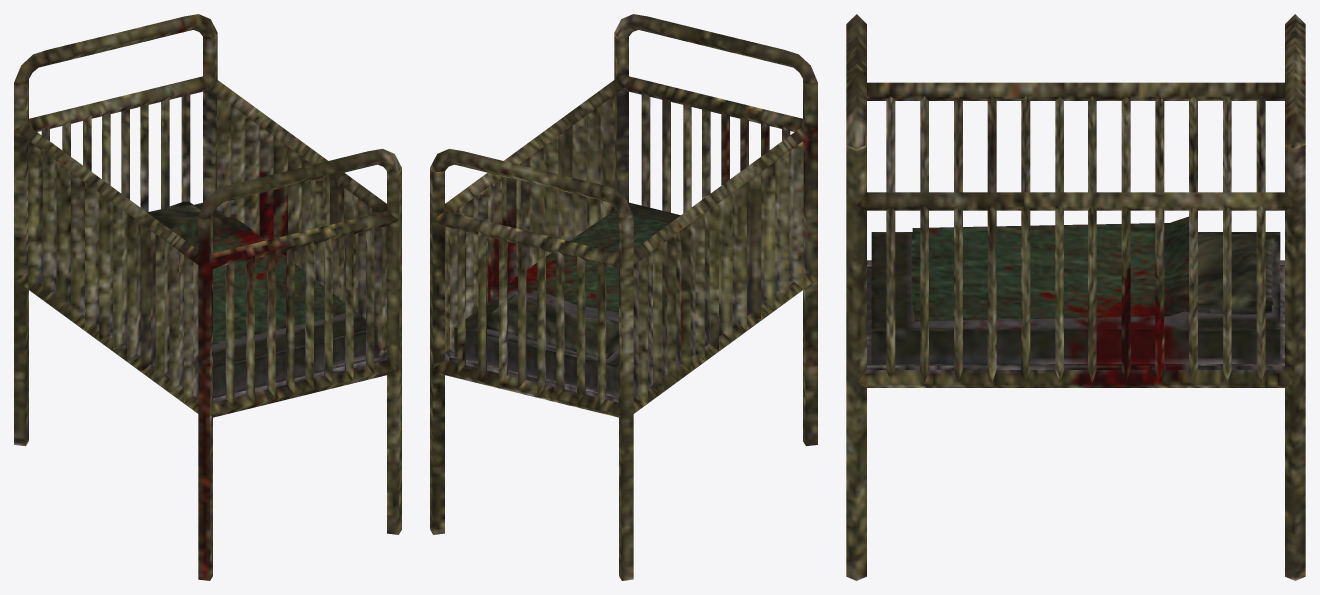
3 renders of one model, left to right at view 1: azimuth 30°, elevation 25°; view 2: azimuth 150°, elevation 25°; view 3: azimuth 270°, elevation 25°, orthographic. The views are drawn at different scales.
Parts seen in each view (by area): view 1: Cage_Crib_0, Blanket_low, Mattress, Pillow_low, Bottom; view 2: Cage_Crib_0, Mattress, Blanket_low, Pillow_low, Bottom; view 3: Cage_Crib_0, Blanket_low, Mattress, Pillow_low, Bottom.
Boxes of the visible parts, <box> form: Cage_Crib_0: <box>14,14,401,580</box>; Blanket_low: <box>170,217,354,344</box>; Mattress: <box>194,202,377,396</box>; Pillow_low: <box>147,201,200,228</box>; Bottom: <box>213,354,382,402</box>; Cage_Crib_0: <box>430,14,817,580</box>; Mattress: <box>454,202,680,396</box>; Blanket_low: <box>507,212,668,312</box>; Pillow_low: <box>487,294,618,358</box>; Bottom: <box>449,354,618,402</box>; Cage_Crib_0: <box>846,14,1305,580</box>; Blanket_low: <box>911,216,1188,321</box>; Mattress: <box>871,232,1280,363</box>; Pillow_low: <box>1185,232,1274,314</box>; Bottom: <box>867,265,1284,369</box>.
Size of the model in its own units: 0.5592 by 1.02 by 0.9165.
Materials: 1 (1 with a texture image).
